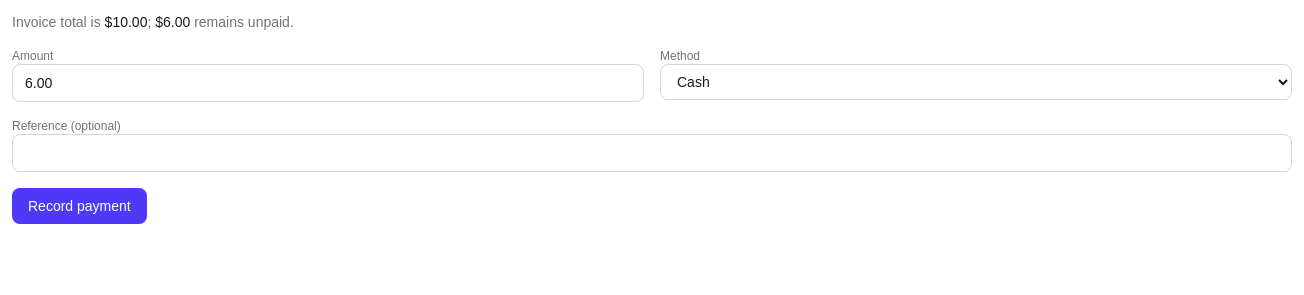
Test: PaymentForm › rejects amounts above the remaining balance
This screenshot has width=1304, height=295.
Step 1. Replace the text in the field labelled "Amount" with "7.00" → (328, 83), box [12,64,644,102]
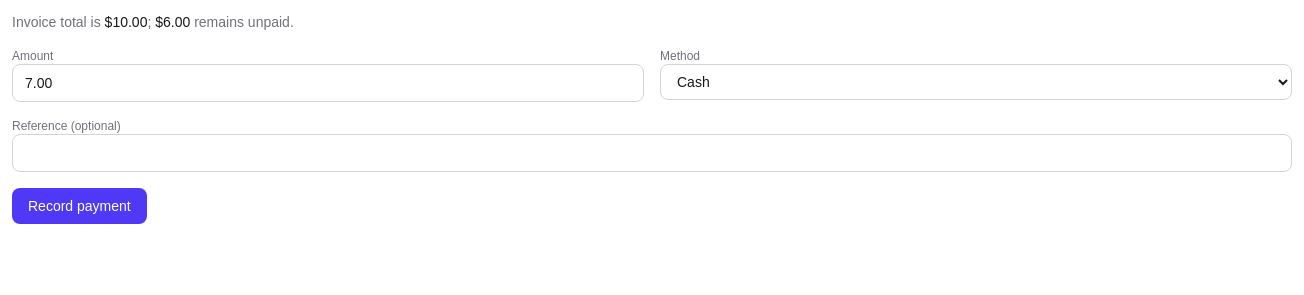
Step 2. Click the button "Record payment" → (79, 206), box [12,188,147,224]
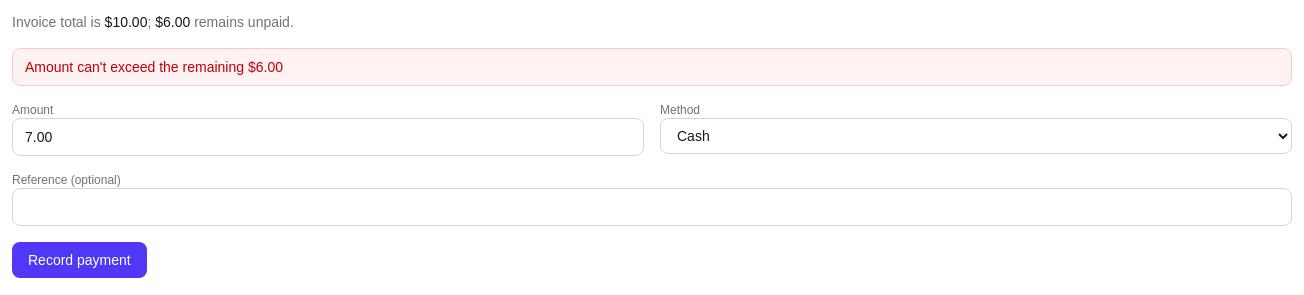
Check: the message shows "remaining", box [25,59,283,75]
